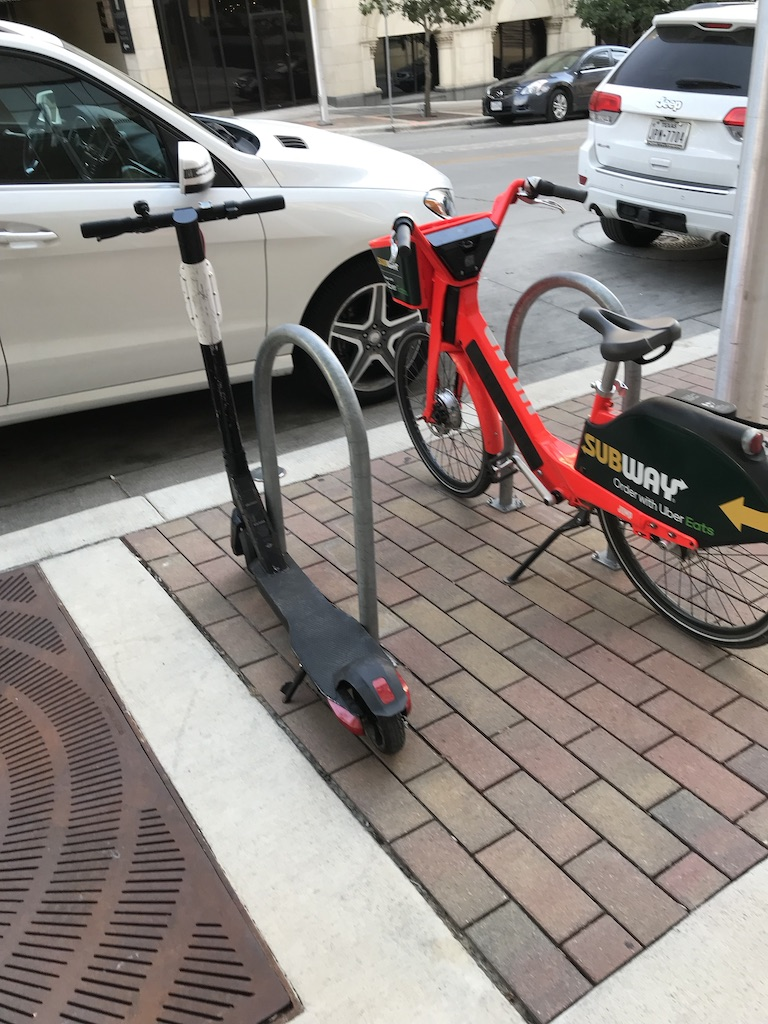scooter: (80, 196, 415, 755)
